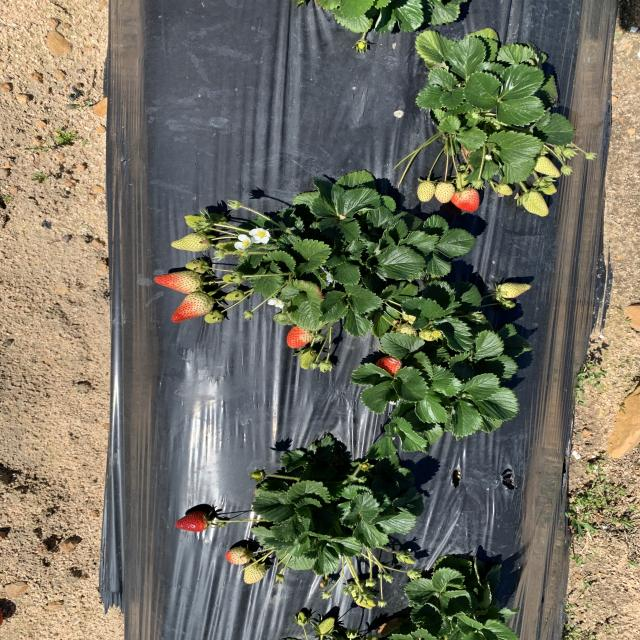unripe: (174, 510, 210, 532), (375, 356, 405, 378), (452, 190, 481, 212), (286, 325, 315, 346)
